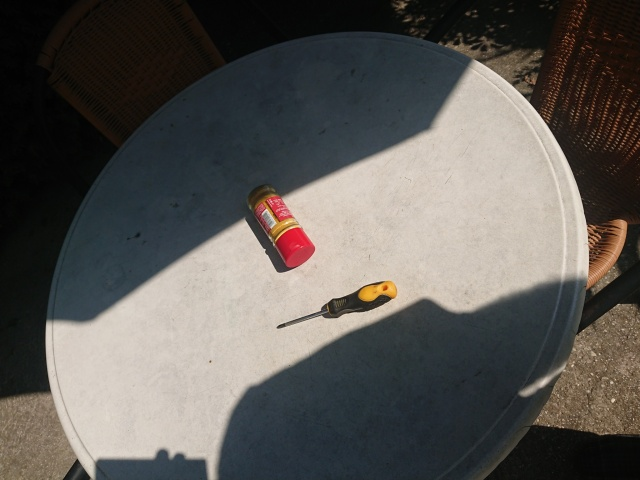Kotanyi Curry Spices Mix 70g: (244, 182, 317, 270)
